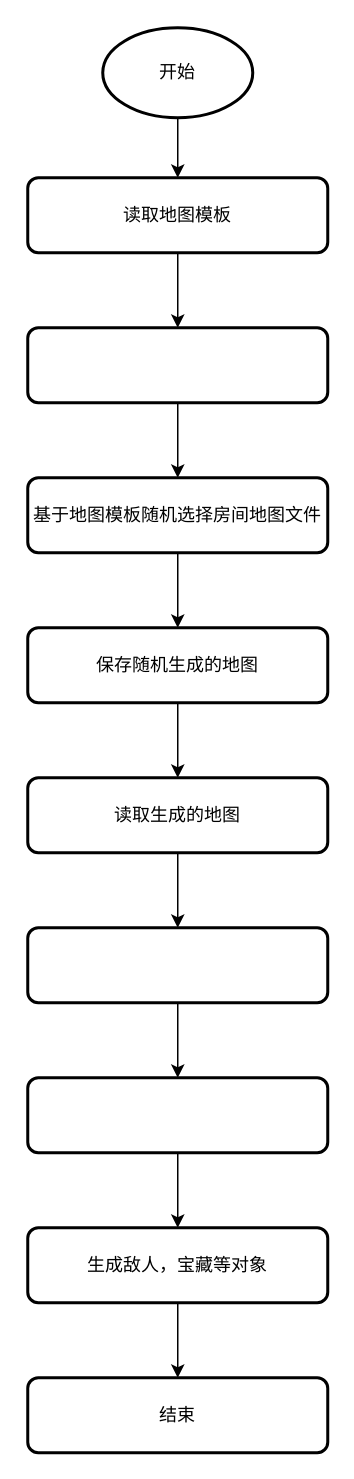
Image size: 354x1479. Some labels were removed from this diagram. Each missing label, with the centre of its shape:
分析地图模板: point 177,365
分析，生成Space类: point 177,965
读取配置文件: point 177,1115
